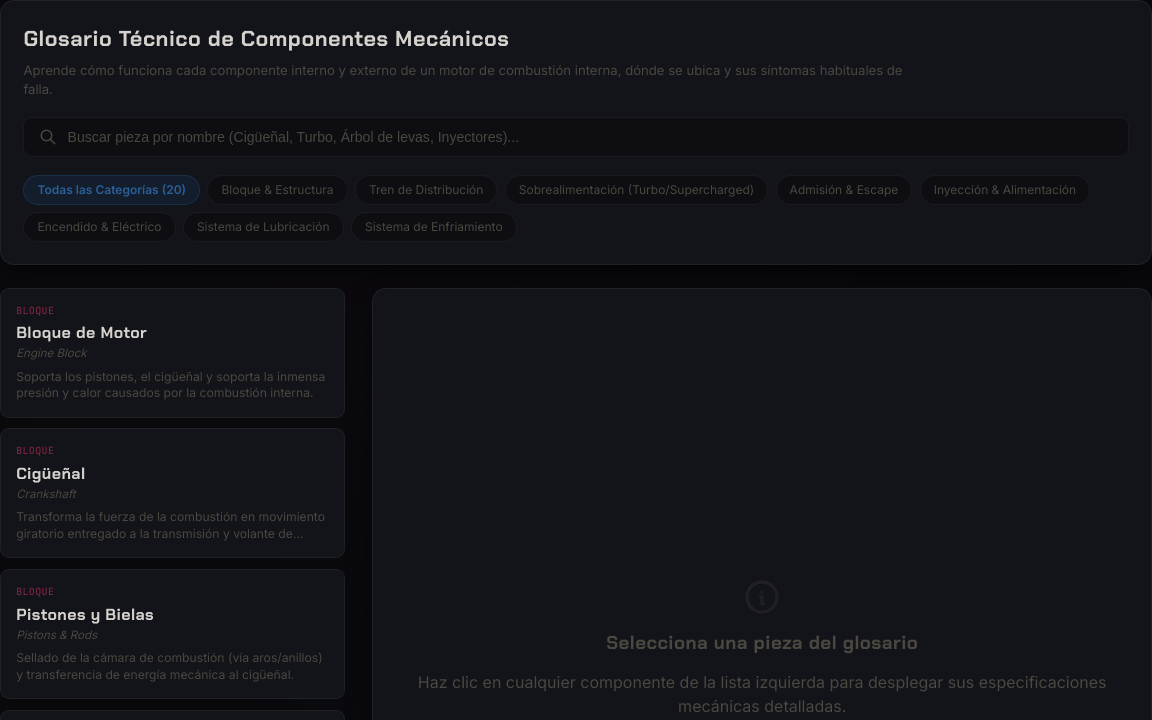
Test: MotorExplorer - PartsGlossary Component Tests › filters parts when searching by name
Replace the text in the field with placeholder "Buscar pieza por nombre" with "Bujía". click: (576, 137)
box: [23,117,1129,157]
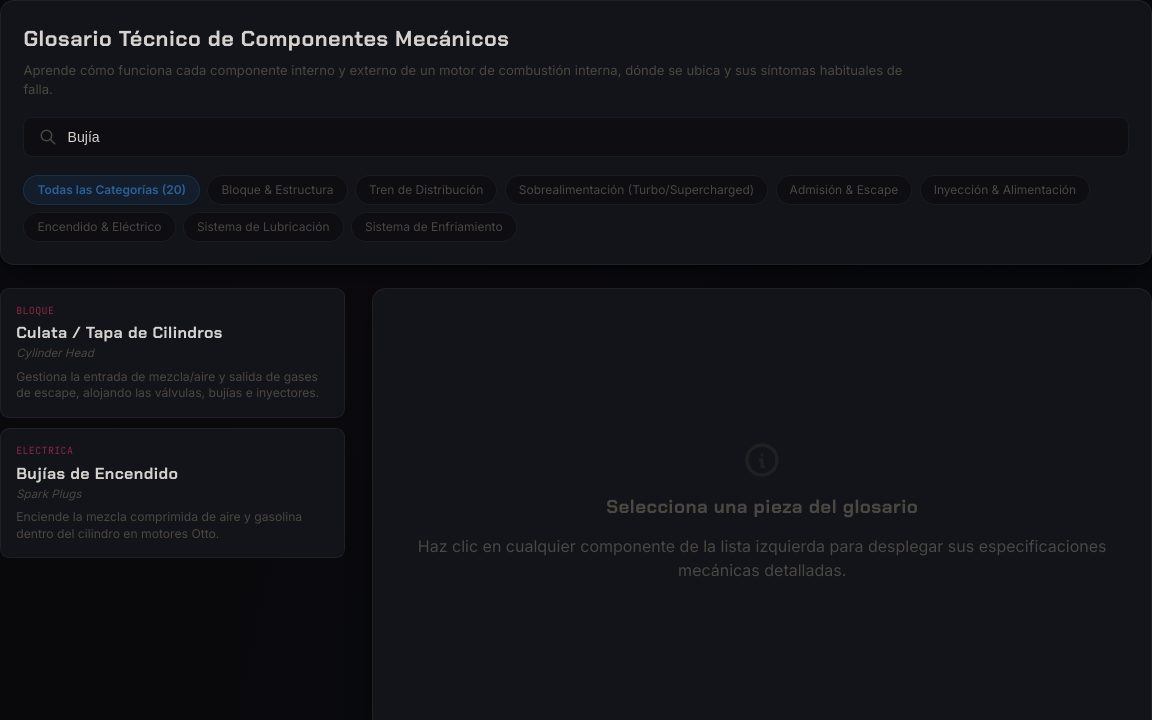
Now the heading "Bujías de Encendido" is shown, box [16,463,178,484]
Now the heading "Bloque de Motor" is gone
